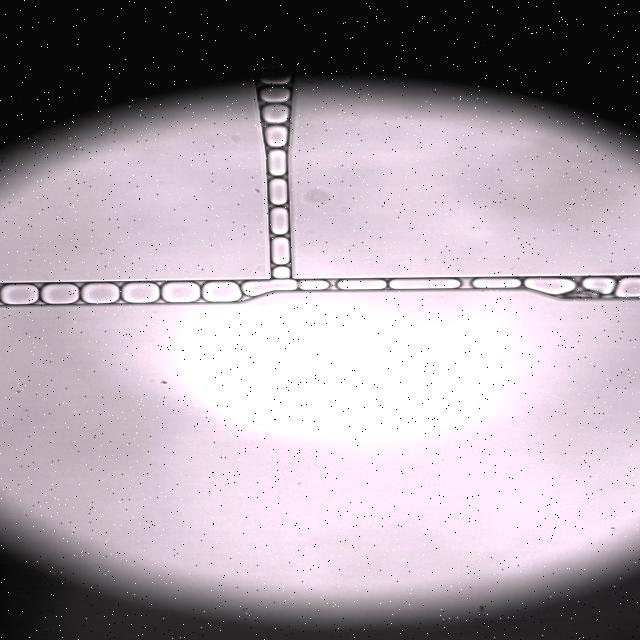L: (271, 237, 290, 279), (582, 277, 615, 294), (261, 104, 289, 124), (270, 207, 289, 235), (264, 126, 288, 148), (259, 87, 290, 103), (269, 179, 288, 205), (337, 279, 386, 289), (472, 278, 521, 288), (268, 149, 286, 175), (261, 79, 288, 86)
S: (241, 280, 331, 296), (524, 278, 576, 295), (202, 282, 241, 302), (41, 283, 78, 304), (0, 284, 38, 304), (81, 283, 119, 303), (162, 282, 200, 302), (122, 283, 159, 303), (389, 279, 459, 289), (615, 277, 640, 297)
